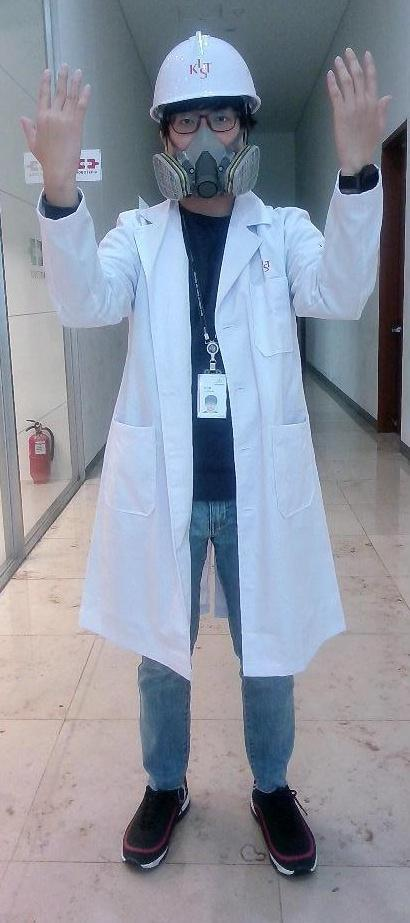lab_coat: (83, 208, 320, 654)
